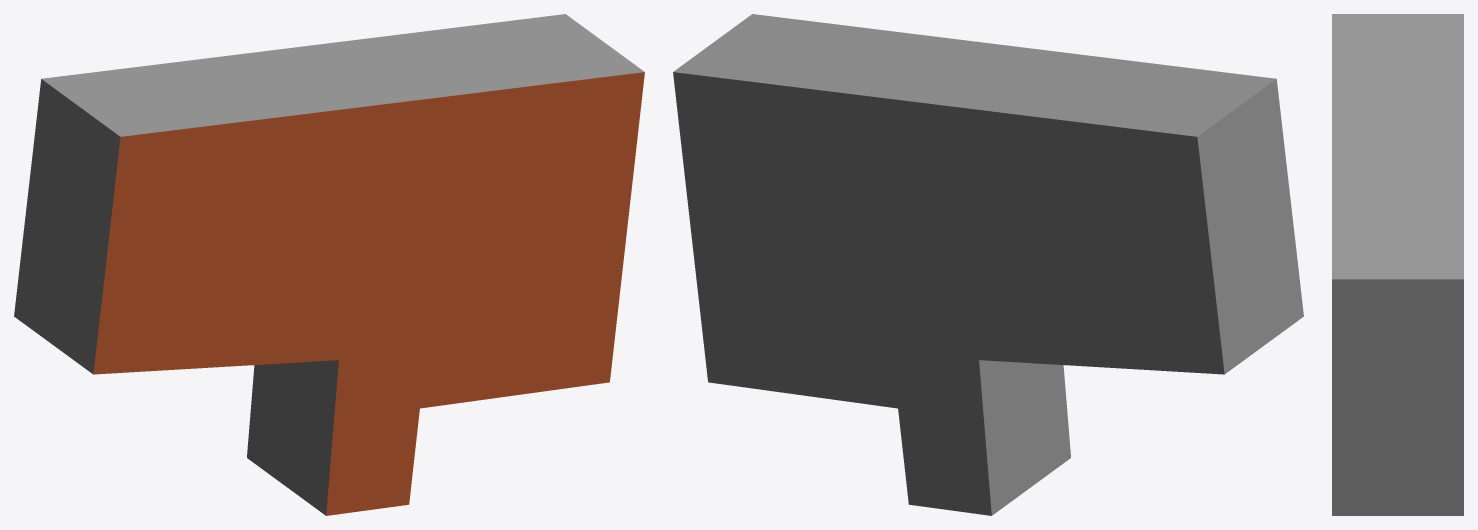
File: construction_2462_assumed_A_Casa_h6m.obj
3 renders of one model, left to right at view 1: azimuth 30°, elevation 25°; view 2: azimuth 150°, elevation 25°; view 3: azimuth 270°, elevation 25°, orthographic. The views are drawn at different scales.
Parts seen in each view (by area): view 1: construction_2462_assumed_A_Casa; view 2: construction_2462_assumed_A_Casa; view 3: construction_2462_assumed_A_Casa.
Part boxes in pixels (x1,y1,x2,y2): construction_2462_assumed_A_Casa: [14, 14, 644, 515]; construction_2462_assumed_A_Casa: [673, 14, 1303, 515]; construction_2462_assumed_A_Casa: [1332, 14, 1463, 515].
Size of the model in its own units: 24.08 by 18.28 by 6.
